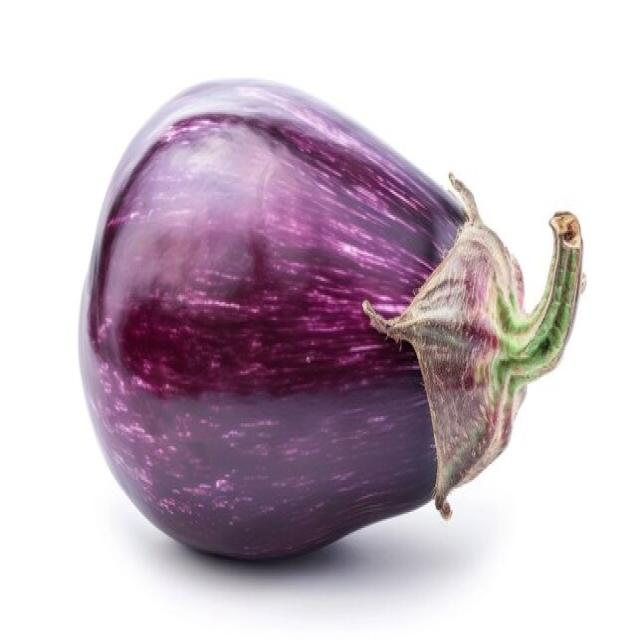Eggplant: (77, 74, 586, 562)
